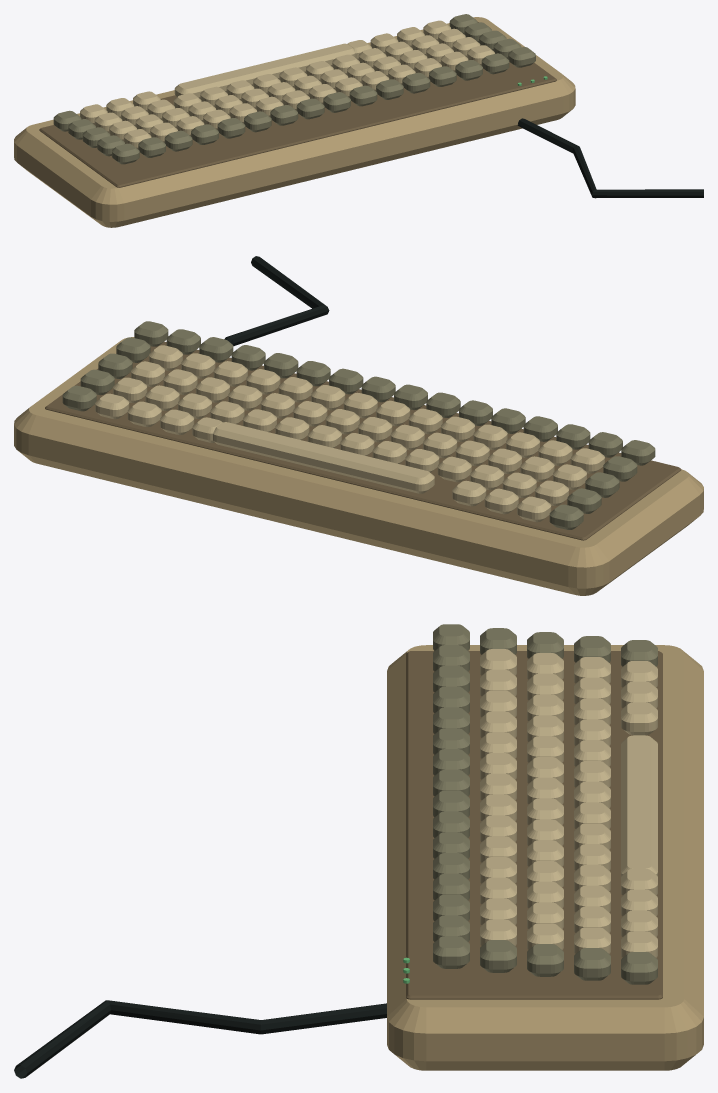
Rendered from keyboard.obj.
3 views of the same model, one above another, from view 1: azimuth 30°, elevation 25°; view 2: azimuth 150°, elevation 25°; view 3: azimuth 270°, elevation 25° (orthographic). The views are drawn at different scales.
Visible parts, largest first — view 1: keyboard_body, keys_key, key_bed, keys_key_dark, spacebar, keyboard_cable; view 2: keyboard_body, keys_key, keys_key_dark, key_bed, spacebar, keyboard_cable; view 3: keyboard_body, keys_key, key_bed, keys_key_dark, keyboard_cable, spacebar.
Part boxes in pixels (left/top/right/bottom): keyboard_body: left=14, top=17, right=575, bottom=227; keys_key: left=80, top=20, right=494, bottom=148; key_bed: left=39, top=22, right=556, bottom=187; keys_key_dark: left=53, top=14, right=535, bottom=164; spacebar: left=174, top=43, right=355, bottom=98; keyboard_cable: left=517, top=118, right=703, bottom=198; keyboard_body: left=14, top=337, right=703, bottom=595; keys_key: left=95, top=345, right=604, bottom=522; keys_key_dark: left=62, top=321, right=655, bottom=529; key_bed: left=45, top=341, right=681, bottom=540; spacebar: left=213, top=422, right=434, bottom=493; keyboard_cable: left=224, top=256, right=329, bottom=346; keyboard_body: left=387, top=645, right=703, bottom=1070; keys_key: left=480, top=649, right=657, bottom=957; key_bed: left=406, top=651, right=662, bottom=999; keys_key_dark: left=433, top=624, right=657, bottom=984; keyboard_cable: left=14, top=1000, right=386, bottom=1078; spacebar: left=621, top=735, right=657, bottom=876.
Size of the model in its own units: 0.8335 by 0.1045 by 0.6311.
